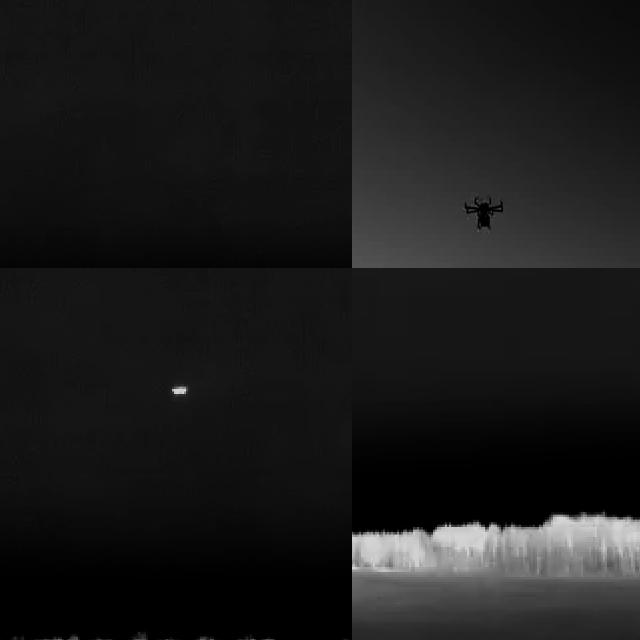1: (160, 378, 198, 410)
drone: (463, 189, 505, 241)
